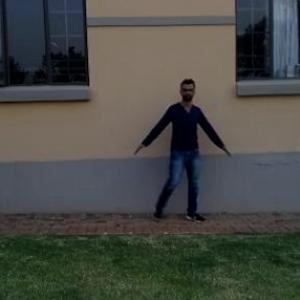land: (128, 83, 228, 235)
